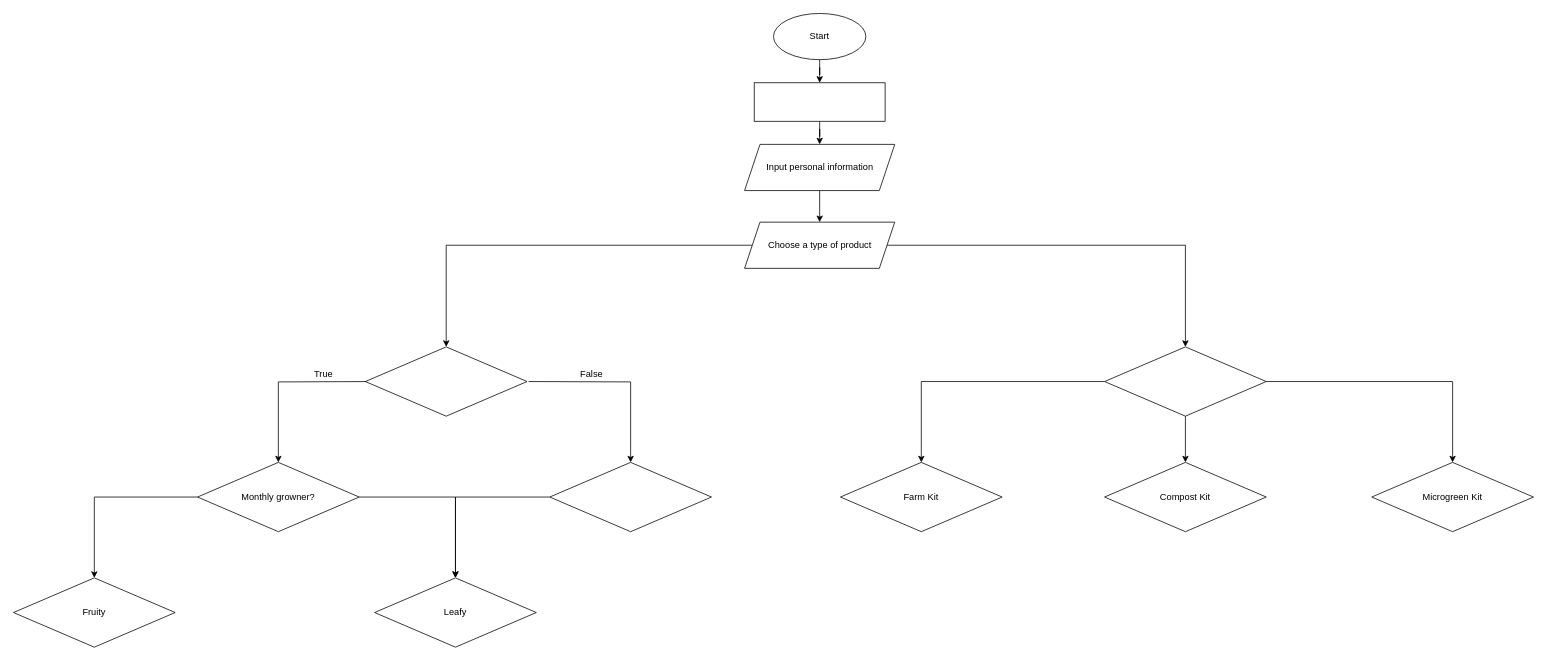
The diagram is 1547 pixels wide and 661 high, and some of its shapes have lost their labels. Each missing label, with the box of its shape:
Annual growner?: (549, 462, 711, 532)
double string: (753, 82, 885, 121)
Kits: (1104, 346, 1266, 416)
Vegetable subscription: (365, 346, 527, 416)
